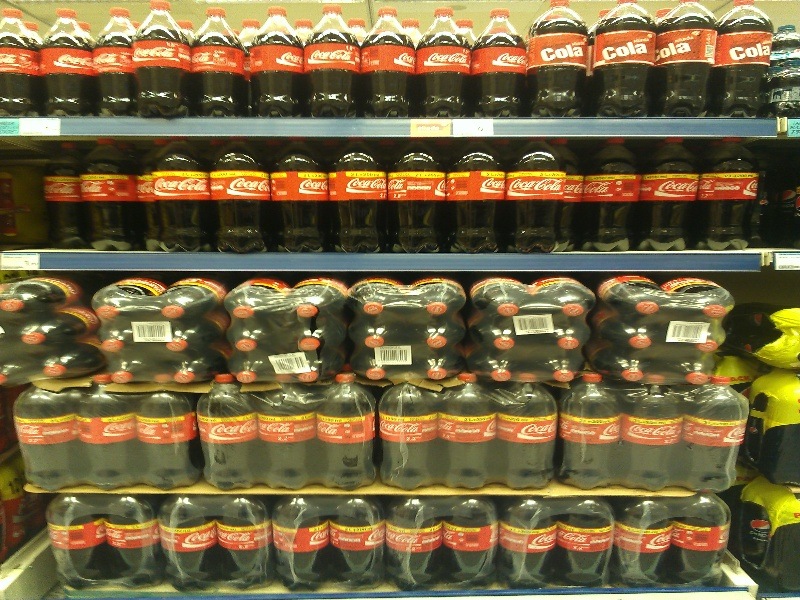lemonade: (212, 133, 277, 256), (77, 136, 144, 253), (528, 2, 591, 118), (410, 7, 474, 119), (506, 136, 566, 255), (446, 139, 507, 252), (271, 139, 332, 251), (470, 8, 531, 120), (134, 3, 192, 118), (301, 5, 359, 118), (332, 139, 388, 255), (701, 137, 758, 250), (359, 5, 414, 119), (191, 10, 249, 116), (249, 6, 301, 118)
